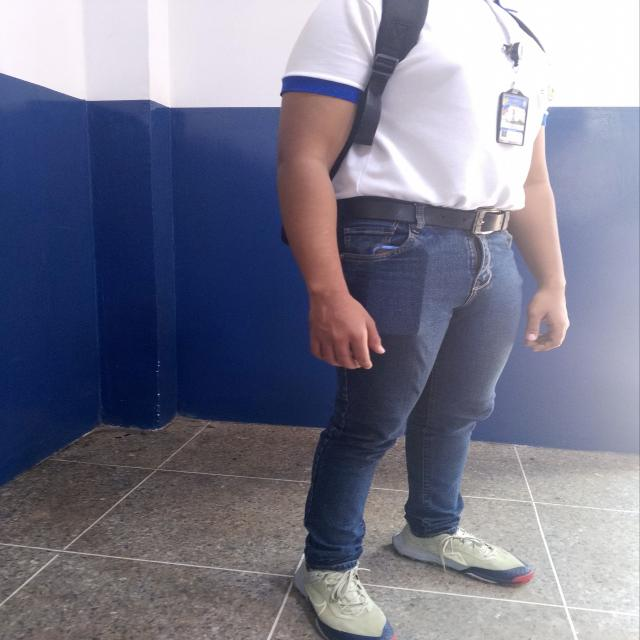carnet: (499, 95, 529, 143)
pantalon_oscuro: (300, 220, 524, 571)
uniforme_superior: (279, 0, 549, 210)
